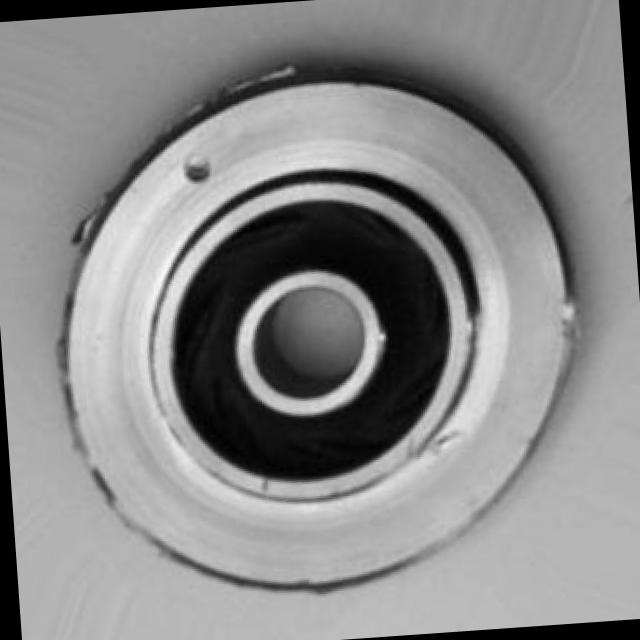Defect: (180, 152, 218, 187)
